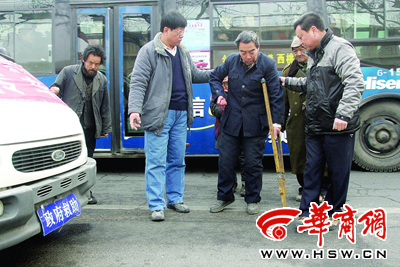other: (276, 12, 366, 240), (125, 11, 209, 223), (208, 27, 287, 216), (47, 42, 117, 213)
